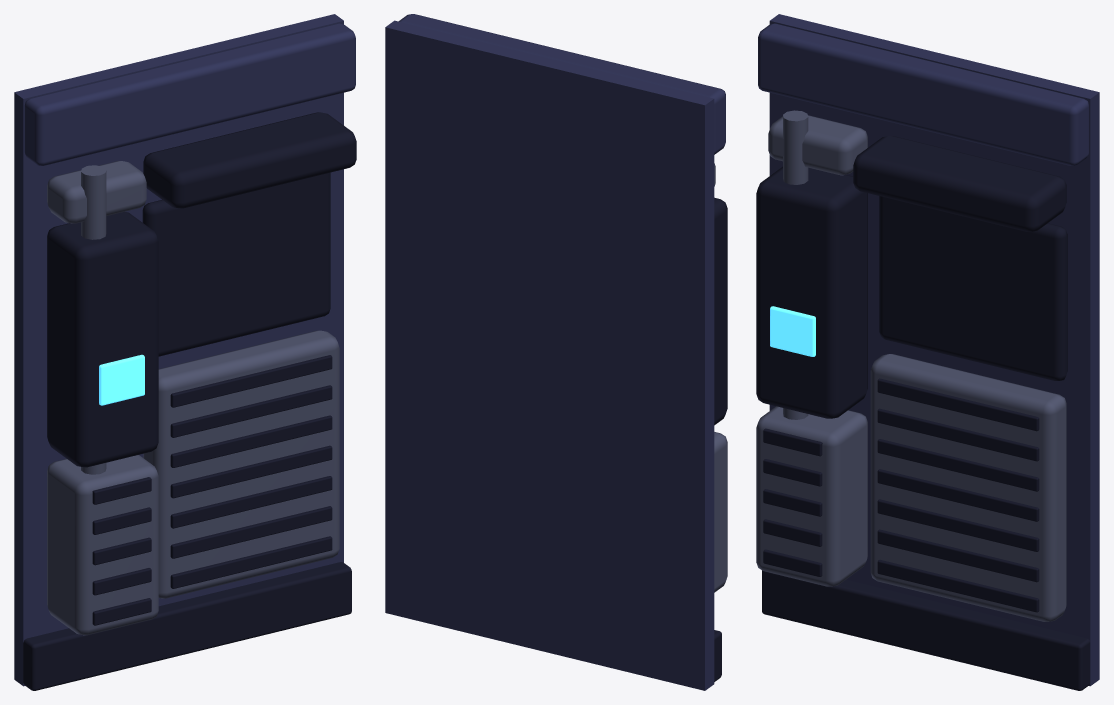
Rendered from int.wallpanel.machinery.w1.s0.i0.25.glb.
3 views of the same model, side by side, from view 1: azimuth 30°, elevation 25°; view 2: azimuth 150°, elevation 25°; view 3: azimuth 330°, elevation 25° (orthographic).
Parts seen in each view (by area): view 1: int.wallpanel.machinery.w1.s0.i0.25; view 2: int.wallpanel.machinery.w1.s0.i0.25; view 3: int.wallpanel.machinery.w1.s0.i0.25.
Part boxes in pixels (box(x1,y1,x2,y2)): int.wallpanel.machinery.w1.s0.i0.25: box(14, 14, 356, 690); int.wallpanel.machinery.w1.s0.i0.25: box(385, 14, 727, 690); int.wallpanel.machinery.w1.s0.i0.25: box(756, 14, 1099, 690).
Size of the model in its own units: 1 by 1.75 by 0.2615.
